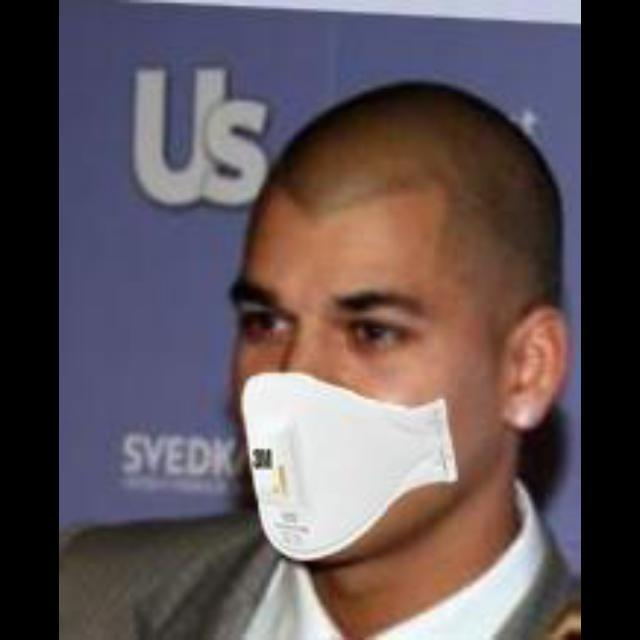suspicion: (228, 91, 560, 575)
